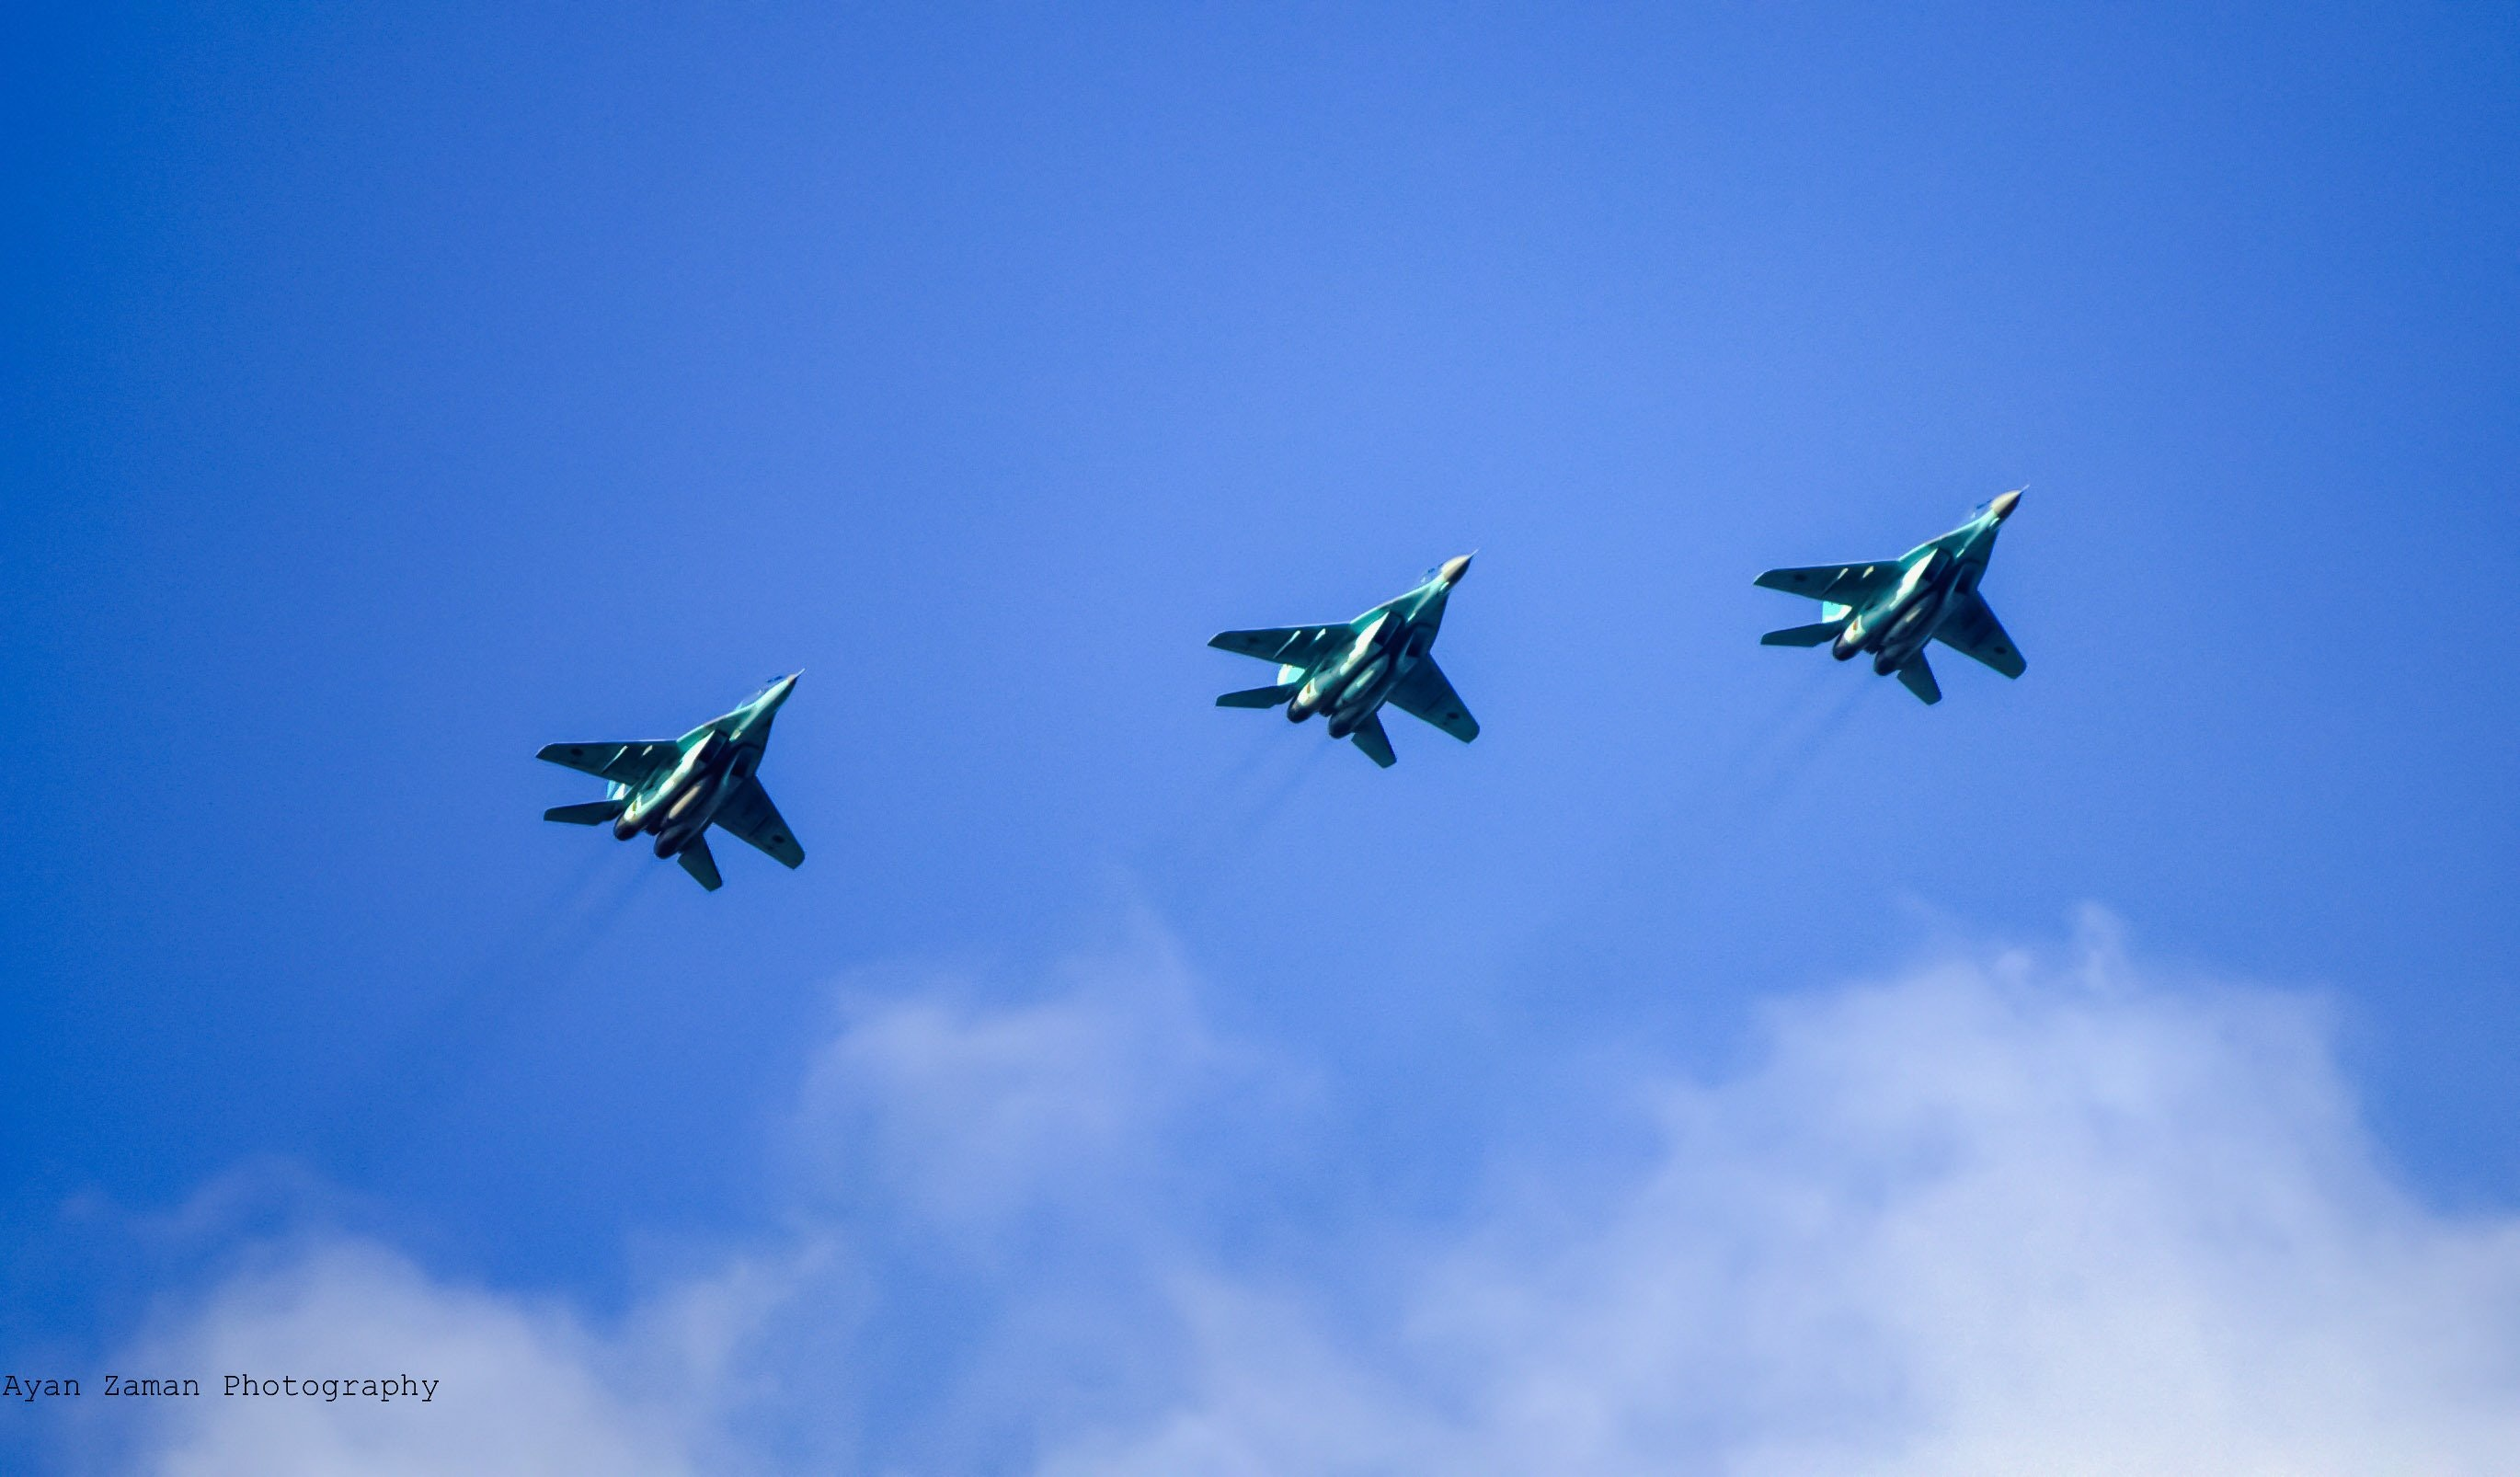Mig-29: (459, 522, 904, 979), (1217, 520, 1504, 781), (1767, 478, 2026, 696)
